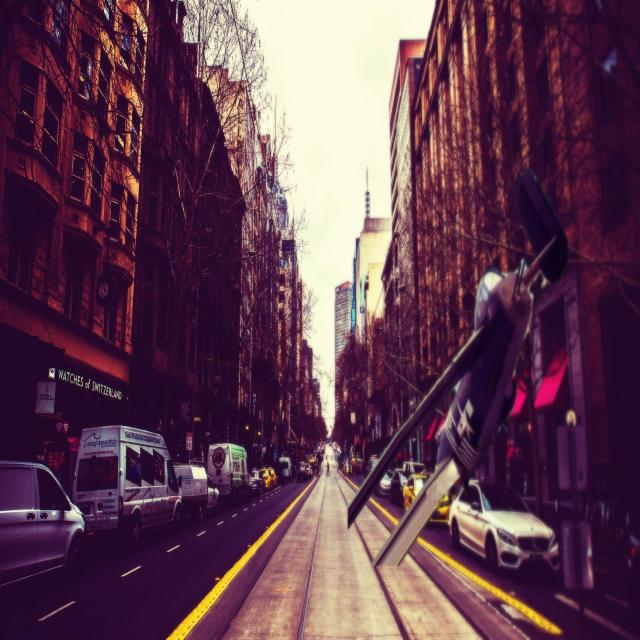airplane: (346, 236, 557, 566)
